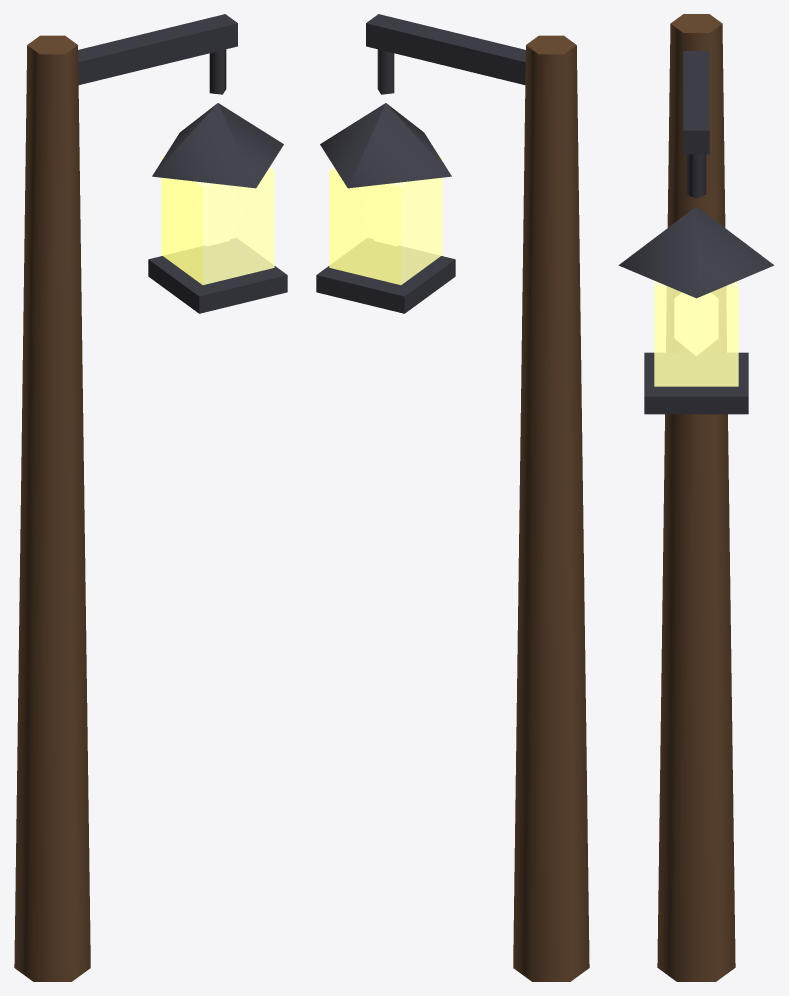
The model's file is stage1_lantern_post.glb.
The picture shows the model from 3 angles, left to right: view 1: azimuth 30°, elevation 25°; view 2: azimuth 150°, elevation 25°; view 3: azimuth 270°, elevation 25°; orthographic projection. The views are drawn at different scales.
Visible parts, largest first — view 1: stage1_lantern_post_post, stage1_lantern_post_iron, flame_lanternGlass; view 2: stage1_lantern_post_post, stage1_lantern_post_iron, flame_lanternGlass; view 3: stage1_lantern_post_post, stage1_lantern_post_iron, flame_lanternGlass.
Part boxes in pixels (box(x1,y1,x2,y2)): stage1_lantern_post_post: box(14, 35, 90, 981); stage1_lantern_post_iron: box(78, 14, 287, 313); flame_lanternGlass: box(161, 156, 274, 284); stage1_lantern_post_post: box(513, 35, 589, 981); stage1_lantern_post_iron: box(316, 14, 525, 313); flame_lanternGlass: box(329, 156, 442, 284); stage1_lantern_post_post: box(657, 14, 735, 981); stage1_lantern_post_iron: box(618, 51, 774, 414); flame_lanternGlass: box(654, 280, 738, 386).
Size of the model in its own units: 0.472 by 1.6 by 0.24.
